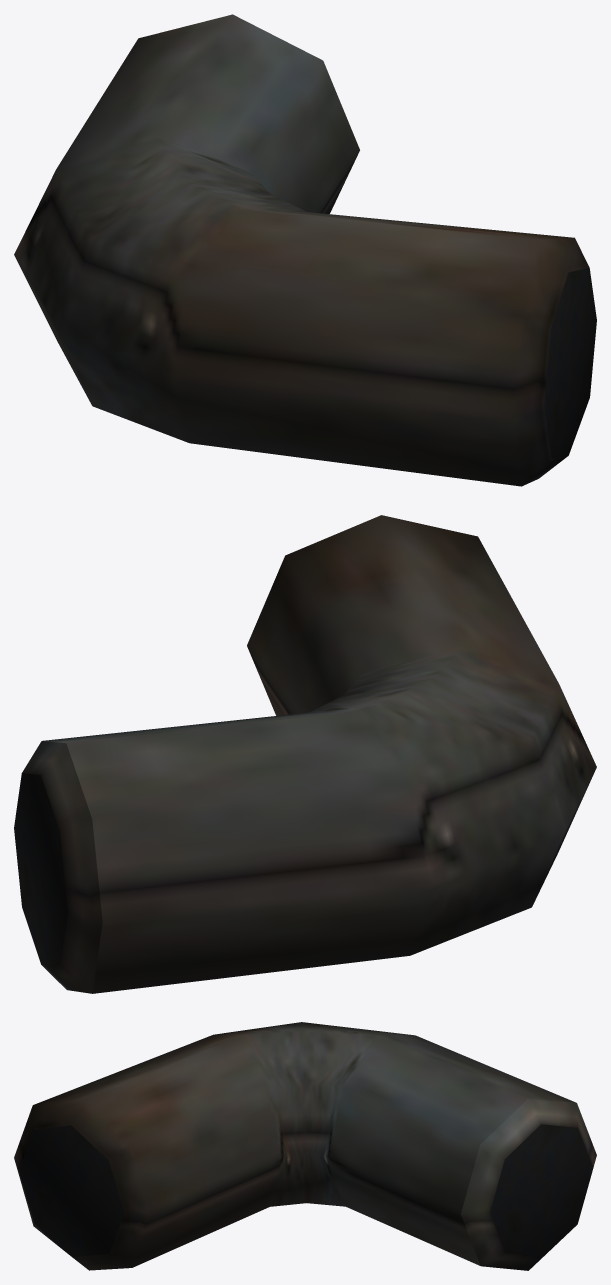
File: SM_EN_1002_guandao07.FBX
3 renders of one model, top to bottom at view 1: azimuth 30°, elevation 25°; view 2: azimuth 150°, elevation 25°; view 3: azimuth 270°, elevation 25°, orthographic. The views are drawn at different scales.
Visible parts, largest first — view 1: SM_EN_1002_guandao07; view 2: SM_EN_1002_guandao07; view 3: SM_EN_1002_guandao07.
Part boxes in pixels (x1,y1,x2,y2): SM_EN_1002_guandao07: [14, 14, 596, 486]; SM_EN_1002_guandao07: [14, 515, 596, 993]; SM_EN_1002_guandao07: [14, 1022, 596, 1270].
Size of the model in its own units: 29.36 by 16.15 by 49.53.
